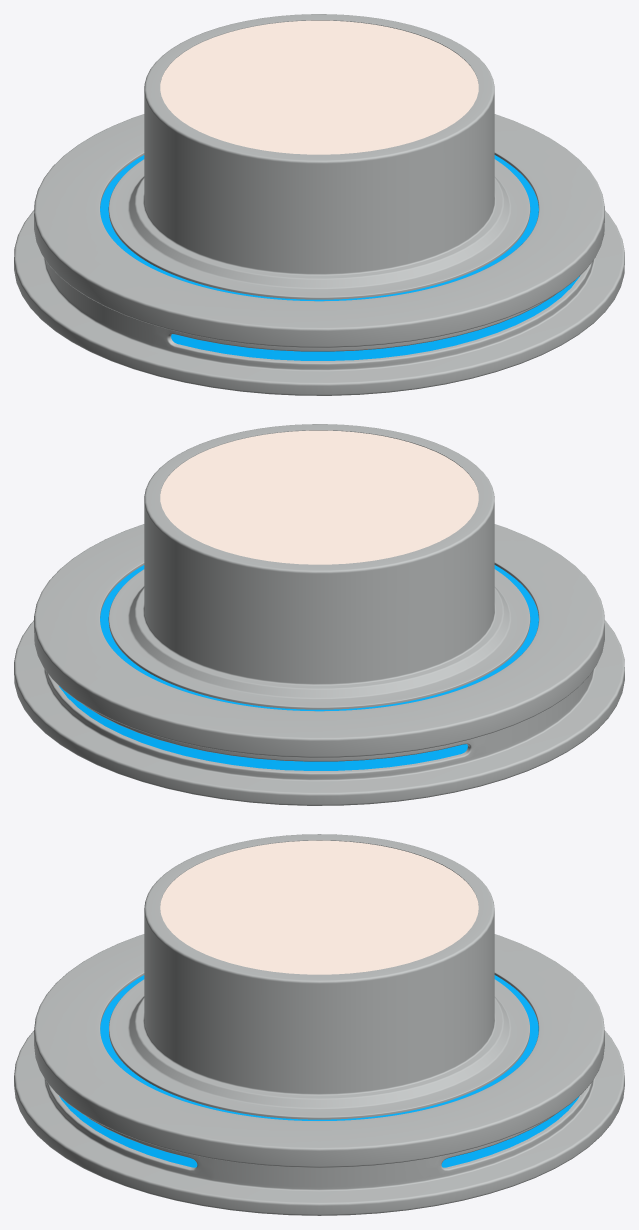
Rendered from platform.glb.
3 renders of one model, top to bottom at view 1: azimuth 30°, elevation 25°; view 2: azimuth 150°, elevation 25°; view 3: azimuth 270°, elevation 25°, orthographic.
Parts seen in each view (by area): view 1: Cylinder.003; view 2: Cylinder.003; view 3: Cylinder.003.
Boxes of the visible parts, x1,y1,x2,y2 form: Cylinder.003: [14, 14, 624, 395]; Cylinder.003: [14, 424, 624, 805]; Cylinder.003: [14, 834, 624, 1215].
Bounding box in the file's own units: 3.48 × 1.13 × 3.48.
3 materials, 1 textured.
